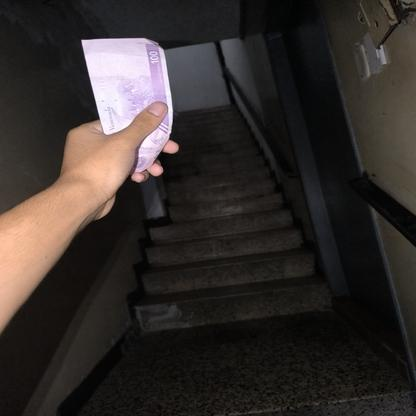one_hundred-back-vef: (80, 37, 173, 175)
